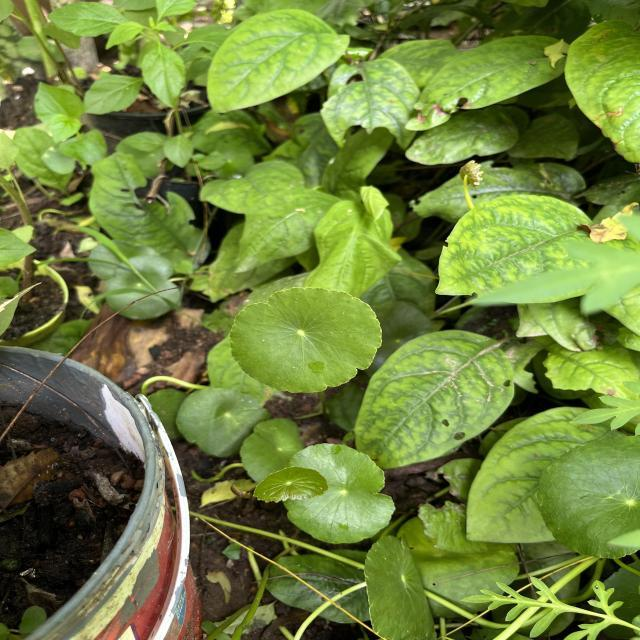Bacopa monnieri: (227, 284, 386, 396), (281, 440, 398, 546), (250, 464, 331, 506)
